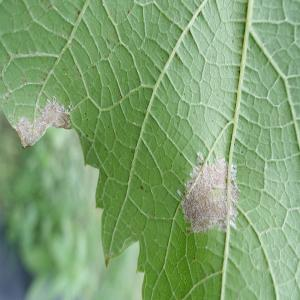Folha: (0, 0, 299, 299)
Fungo: (177, 151, 241, 234), (14, 95, 72, 148)
